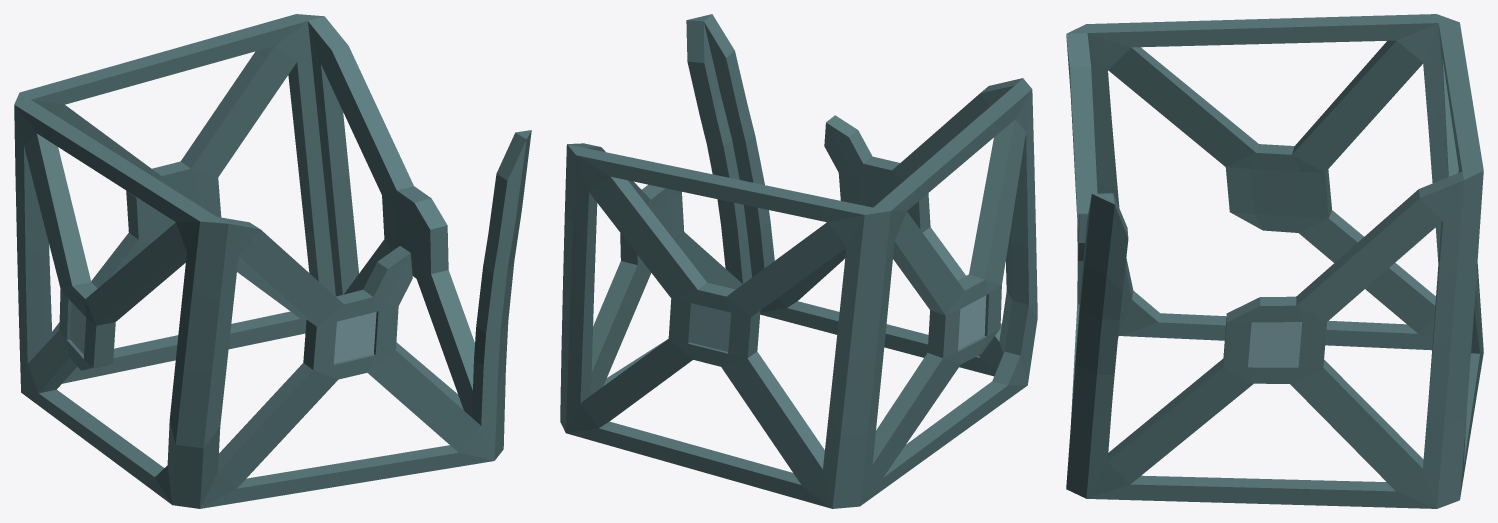
File: SteelLatticeWreck_A.fbx
The picture shows the model from 3 angles, left to right: view 1: azimuth 30°, elevation 25°; view 2: azimuth 150°, elevation 25°; view 3: azimuth 270°, elevation 25°; orthographic projection. The views are drawn at different scales.
Parts seen in each view (by area): view 1: SteelLatticeWreck_A; view 2: SteelLatticeWreck_A; view 3: SteelLatticeWreck_A.
Part boxes in pixels (bbox=[...]): SteelLatticeWreck_A: bbox=[14, 14, 531, 508]; SteelLatticeWreck_A: bbox=[560, 14, 1037, 508]; SteelLatticeWreck_A: bbox=[1066, 14, 1483, 508].
Bounding box in the file's own units: 2.65 × 2.38 × 2.
